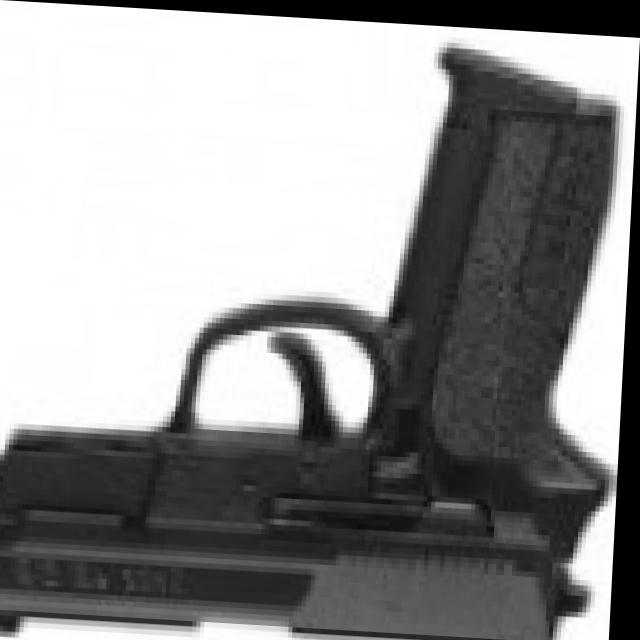handgun: (0, 27, 623, 640)
